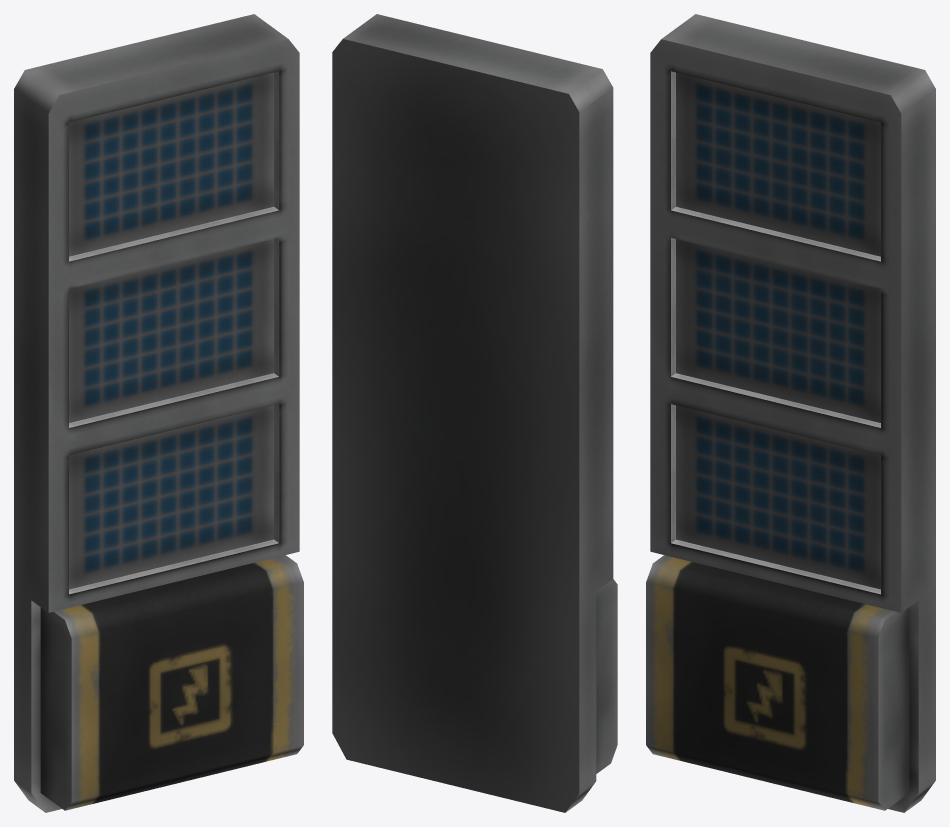
The model's file is bluedog_SolarBattery.dae.
3 views of the same model, side by side, from view 1: azimuth 30°, elevation 25°; view 2: azimuth 150°, elevation 25°; view 3: azimuth 330°, elevation 25° (orthographic).
Visible parts, largest first — view 1: SolarCells, Battery; view 2: SolarCells, Battery; view 3: SolarCells, Battery.
Part boxes in pixels (<box>): SolarCells: <box>14,14,299,812</box>; Battery: <box>40,555,303,810</box>; SolarCells: <box>332,14,613,812</box>; Battery: <box>596,579,617,773</box>; SolarCells: <box>650,14,935,812</box>; Battery: <box>646,555,909,810</box>.
Size of the model in its own units: 0.127 by 0.3537 by 0.0422.
